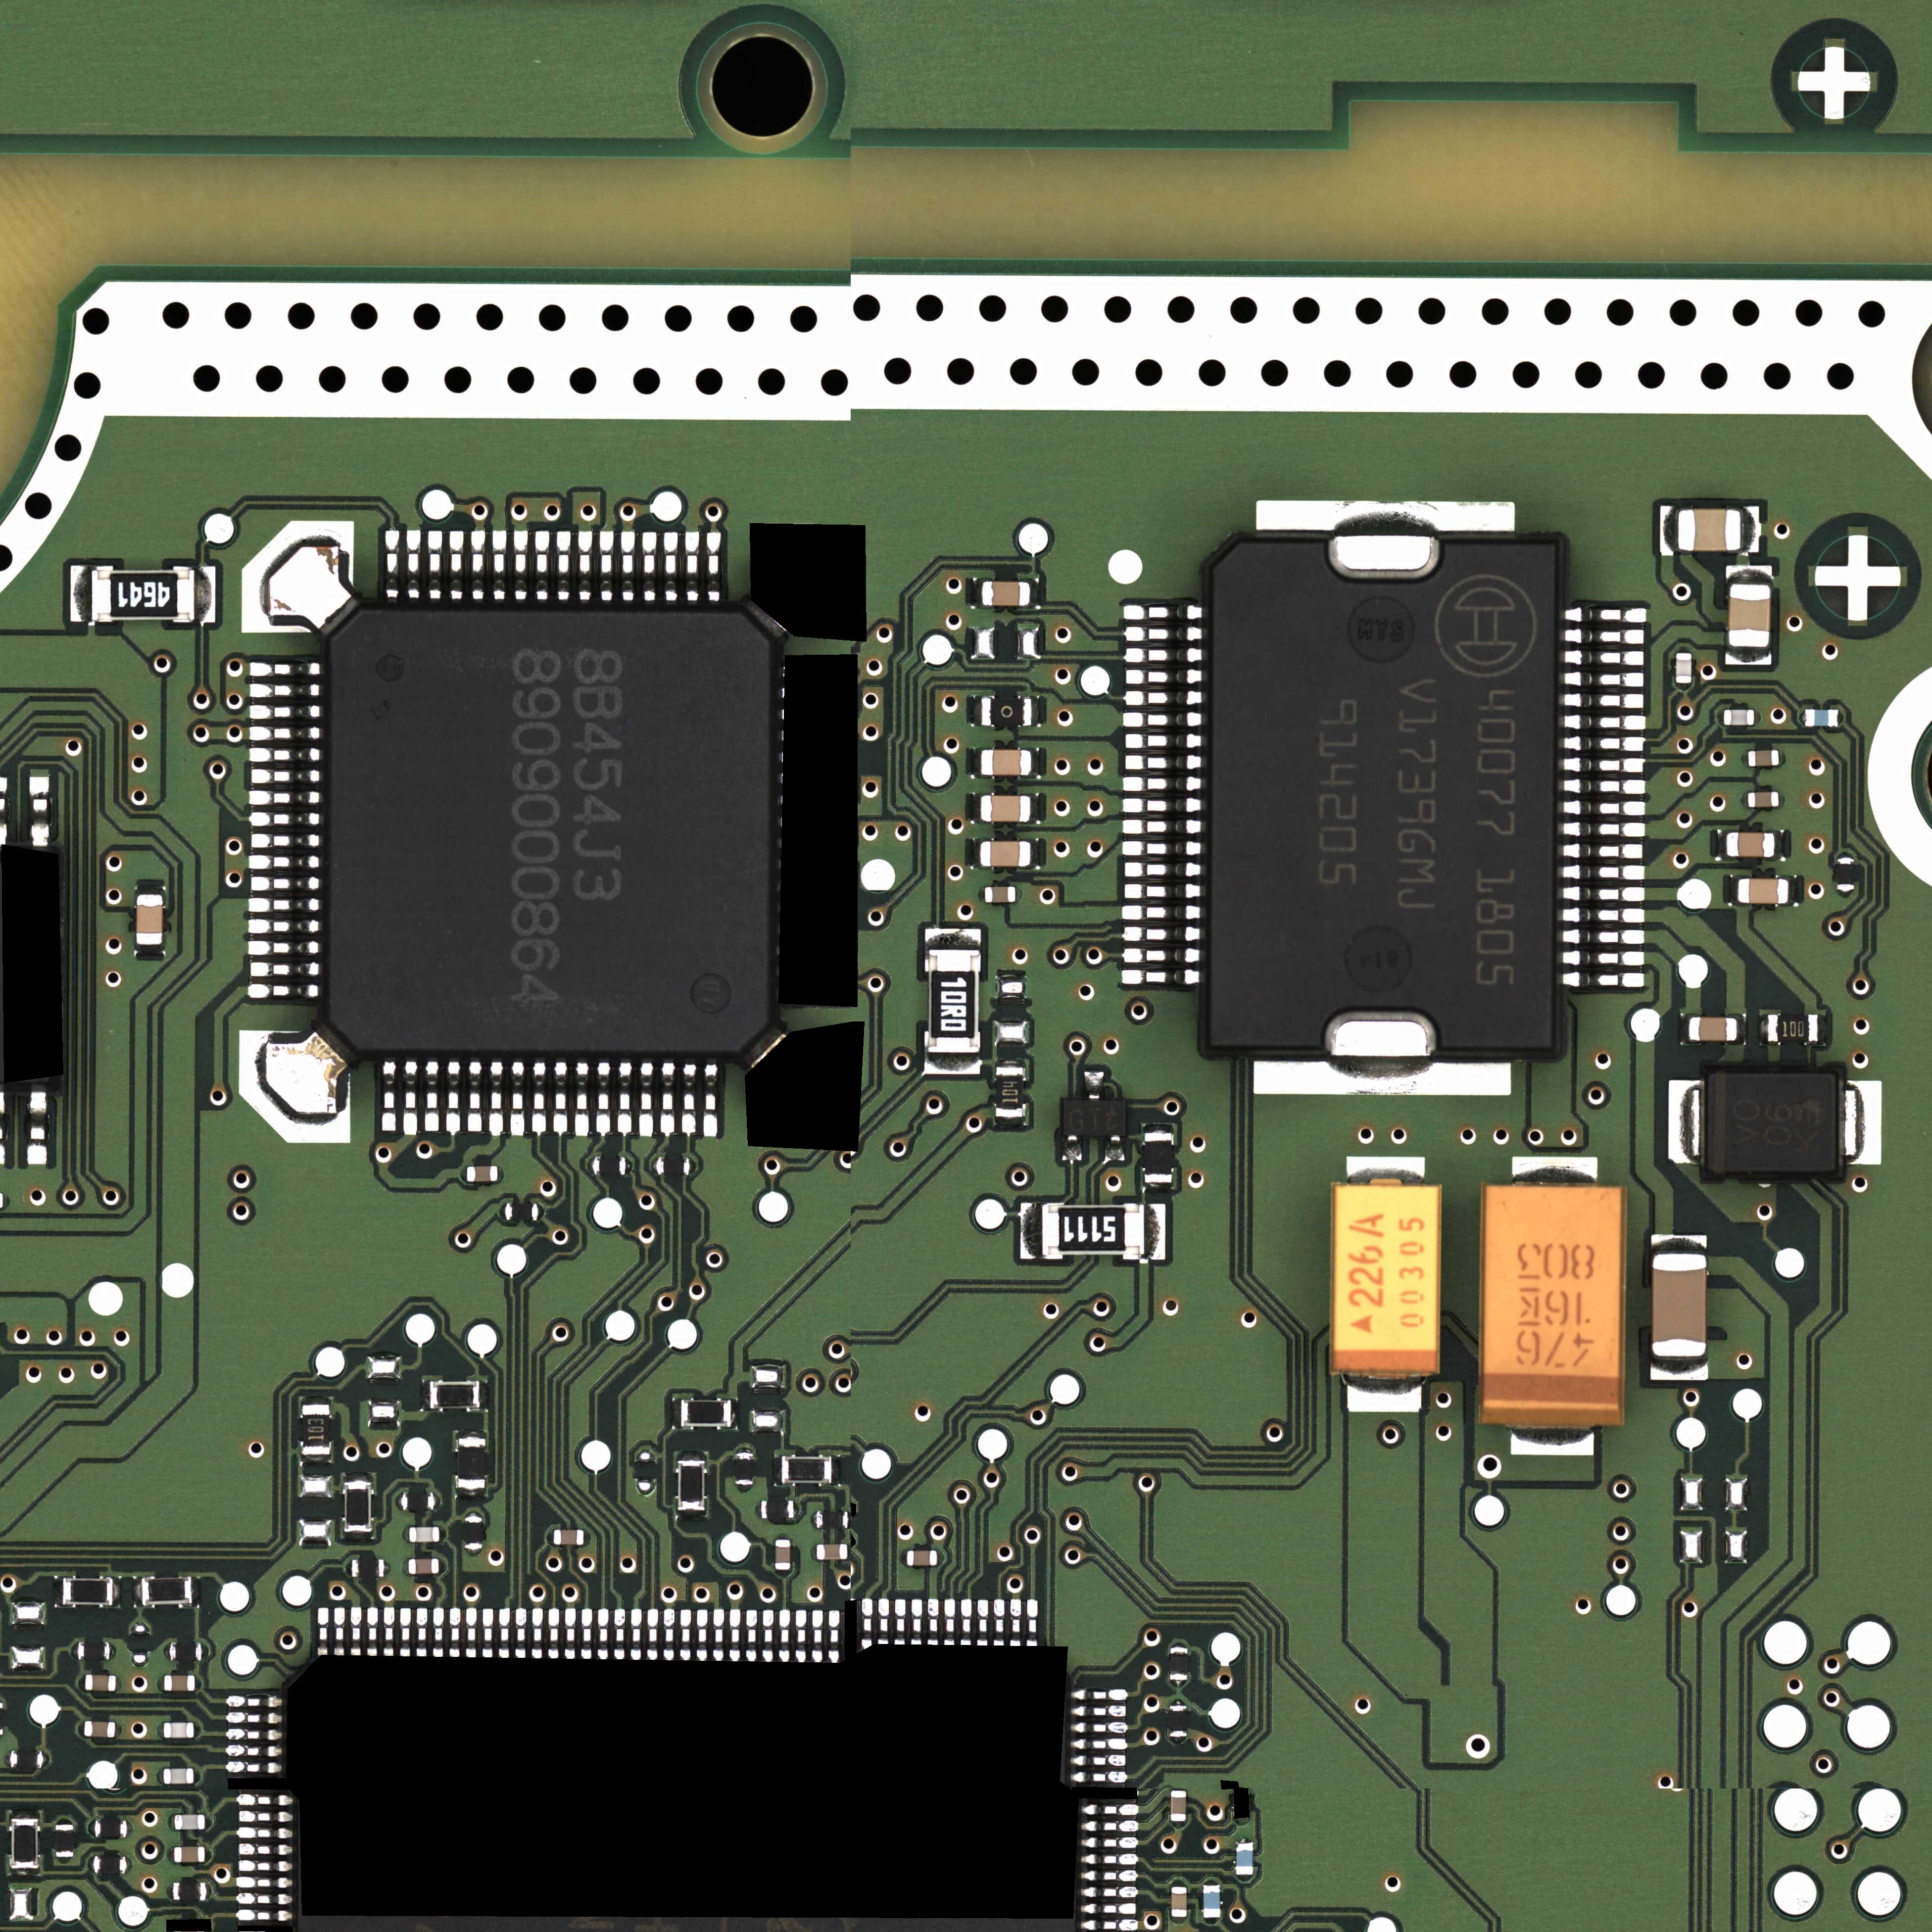Package: (321, 599, 775, 1057), (1213, 543, 1552, 1050), (1482, 1186, 1622, 1425), (1332, 1186, 1440, 1372), (1704, 1071, 1838, 1174), (1652, 1254, 1707, 1356), (92, 569, 195, 622), (927, 951, 980, 1052), (1043, 1204, 1144, 1256), (1677, 509, 1741, 551), (1729, 583, 1771, 647), (1062, 1099, 1126, 1136), (981, 698, 1032, 726), (1144, 1132, 1173, 1182), (457, 1438, 485, 1488), (995, 1067, 1023, 1116), (302, 1404, 330, 1454), (1767, 1014, 1818, 1042), (980, 796, 1031, 822), (137, 894, 162, 945), (1738, 878, 1788, 904), (980, 841, 1030, 867), (681, 1400, 730, 1426), (345, 1482, 371, 1531), (11, 1818, 38, 1868), (63, 1579, 113, 1605), (142, 1578, 192, 1604), (782, 1457, 832, 1483), (981, 750, 1031, 775), (678, 1460, 704, 1510), (431, 1382, 480, 1407), (982, 581, 1030, 606), (1727, 832, 1775, 857), (1689, 1017, 1737, 1041), (1169, 1647, 1188, 1681), (173, 1882, 206, 1901), (352, 1558, 384, 1578), (1836, 858, 1855, 890), (656, 1157, 690, 1175), (55, 1824, 74, 1857), (593, 1157, 626, 1175), (505, 1202, 538, 1220), (761, 1500, 793, 1519), (1805, 709, 1838, 727), (464, 1516, 483, 1549), (170, 1643, 202, 1661), (402, 1492, 434, 1510), (1203, 1885, 1220, 1918), (94, 1855, 126, 1873), (95, 1820, 126, 1837), (1169, 1705, 1187, 1737), (78, 1642, 110, 1660), (1236, 1842, 1254, 1875), (735, 1453, 753, 1485), (10, 1751, 43, 1768), (818, 1511, 848, 1528), (84, 1721, 115, 1738), (164, 1675, 195, 1691), (85, 1675, 116, 1691), (467, 1166, 497, 1182), (174, 1846, 204, 1863), (1724, 709, 1754, 725), (553, 1529, 584, 1545), (1748, 750, 1779, 766), (985, 887, 1015, 903), (1676, 653, 1692, 683), (163, 1768, 193, 1784), (408, 1558, 438, 1574), (175, 1814, 205, 1830), (1171, 1887, 1187, 1917), (1748, 792, 1779, 807), (164, 1722, 193, 1738), (409, 1527, 439, 1543), (907, 1550, 937, 1566), (1171, 1790, 1186, 1821), (775, 1540, 790, 1570), (818, 1545, 847, 1559)
Solder: (237, 1029, 352, 1145), (240, 518, 355, 634), (1254, 1051, 1512, 1096), (1256, 501, 1516, 543), (1838, 1080, 1881, 1164), (1668, 1080, 1704, 1163), (1348, 1377, 1421, 1412), (1511, 1428, 1594, 1455), (1511, 1157, 1597, 1183), (1347, 1157, 1424, 1182), (27, 1087, 47, 1164), (29, 776, 50, 846), (1560, 971, 1646, 989), (1562, 864, 1646, 881), (1561, 735, 1645, 752), (1562, 886, 1646, 903), (1562, 800, 1646, 817), (1562, 671, 1645, 687), (1563, 757, 1646, 773), (1562, 778, 1645, 795), (1562, 714, 1645, 730), (1560, 907, 1646, 923), (1561, 929, 1646, 945), (1122, 819, 1204, 835), (1562, 821, 1646, 838), (1561, 843, 1645, 859), (1564, 606, 1646, 623), (1123, 690, 1205, 707), (1563, 692, 1646, 709), (1562, 950, 1645, 966), (1122, 604, 1203, 621), (1122, 840, 1203, 857), (1122, 775, 1203, 792), (1123, 712, 1203, 728), (1124, 754, 1204, 771), (1123, 626, 1205, 642), (1563, 649, 1644, 666), (1122, 969, 1201, 986), (1123, 669, 1204, 685), (1122, 905, 1202, 921), (1122, 862, 1203, 878), (1650, 1357, 1708, 1380), (1123, 733, 1203, 749), (1123, 883, 1203, 900), (1124, 647, 1204, 664), (1121, 798, 1203, 814), (1564, 628, 1646, 644), (1122, 926, 1202, 943), (1122, 948, 1201, 964), (1020, 1202, 1041, 1260), (247, 918, 321, 935), (247, 940, 320, 956), (248, 704, 321, 720), (1145, 1203, 1166, 1260), (924, 1053, 981, 1074), (249, 875, 321, 892), (249, 854, 321, 870), (250, 768, 322, 784), (70, 565, 90, 623), (248, 897, 321, 913), (249, 725, 322, 741), (248, 683, 321, 699), (249, 661, 322, 677), (249, 747, 321, 763), (249, 962, 321, 977), (250, 833, 322, 849), (249, 812, 321, 827), (249, 790, 321, 806), (596, 1062, 611, 1137), (247, 983, 320, 999), (641, 531, 657, 602), (510, 1062, 525, 1136), (599, 530, 614, 602), (620, 531, 635, 602), (513, 529, 528, 602), (663, 531, 678, 602), (196, 566, 215, 624), (489, 1061, 503, 1136), (925, 929, 981, 948), (618, 1062, 632, 1137), (534, 530, 549, 602), (639, 1063, 653, 1137), (575, 1062, 589, 1136), (661, 1063, 675, 1137), (553, 1062, 568, 1136), (556, 531, 571, 602), (1651, 1234, 1707, 1253), (532, 1062, 546, 1135), (449, 530, 464, 601), (685, 531, 700, 602), (578, 531, 592, 602), (382, 1061, 396, 1133), (403, 1062, 418, 1135), (492, 529, 506, 602), (703, 1064, 718, 1137), (706, 531, 721, 601), (468, 1062, 482, 1133), (471, 530, 485, 601), (446, 1061, 460, 1134), (682, 1063, 696, 1137), (428, 530, 442, 600), (407, 530, 421, 600), (425, 1061, 439, 1133), (385, 529, 399, 599), (1660, 506, 1677, 556), (1726, 566, 1773, 583), (1725, 647, 1772, 665), (1742, 506, 1759, 553), (1071, 1754, 1126, 1767), (334, 1607, 345, 1663), (366, 1607, 378, 1663), (384, 1608, 395, 1663), (465, 1608, 477, 1663), (483, 1609, 495, 1664), (680, 1609, 692, 1664), (696, 1609, 708, 1664), (712, 1609, 724, 1665), (728, 1609, 740, 1665), (746, 1610, 758, 1665), (763, 1610, 774, 1665), (778, 1610, 790, 1665), (812, 1610, 823, 1666), (828, 1610, 840, 1665), (1027, 1599, 1039, 1655), (237, 1794, 293, 1805), (226, 1762, 283, 1773), (226, 1745, 283, 1756), (227, 1712, 283, 1723), (227, 1729, 283, 1740), (227, 1695, 283, 1707), (1082, 1837, 1138, 1848), (1082, 1854, 1138, 1865), (1082, 1870, 1138, 1881), (1082, 1886, 1138, 1898), (1082, 1919, 1138, 1931), (237, 1910, 292, 1921), (237, 1893, 292, 1904), (238, 1860, 293, 1872), (237, 1877, 292, 1888), (317, 1608, 329, 1663), (349, 1607, 361, 1663), (400, 1608, 412, 1663), (416, 1608, 428, 1663), (433, 1608, 444, 1663), (449, 1608, 460, 1664), (500, 1608, 511, 1664), (516, 1608, 527, 1664), (532, 1608, 543, 1664), (548, 1608, 560, 1663), (564, 1608, 576, 1663), (580, 1608, 592, 1664), (597, 1608, 608, 1664), (631, 1609, 642, 1664), (647, 1609, 658, 1664), (663, 1609, 675, 1664), (795, 1609, 807, 1665), (895, 1600, 907, 1655), (861, 1599, 872, 1655), (912, 1600, 923, 1655), (927, 1600, 939, 1655), (944, 1599, 955, 1655), (961, 1599, 972, 1655), (977, 1599, 989, 1655), (1011, 1599, 1022, 1655), (994, 1599, 1005, 1655), (239, 1811, 293, 1822), (238, 1827, 292, 1838), (615, 1609, 626, 1664), (877, 1599, 889, 1654), (1082, 1903, 1136, 1914), (1071, 1689, 1127, 1700), (1071, 1722, 1127, 1733), (1082, 1804, 1138, 1815), (1082, 1821, 1138, 1832), (239, 1844, 294, 1855), (1071, 1706, 1126, 1717), (1071, 1739, 1126, 1750), (1071, 1772, 1127, 1783), (1084, 1070, 1103, 1098), (1105, 1136, 1125, 1160), (1062, 1136, 1082, 1159), (969, 837, 980, 868), (1789, 875, 1799, 906), (971, 578, 981, 608), (1031, 838, 1041, 869), (971, 695, 981, 726), (1775, 830, 1785, 860), (971, 747, 981, 777), (301, 1455, 332, 1464), (1031, 793, 1040, 823), (1031, 696, 1041, 726), (1680, 1013, 1689, 1045), (135, 884, 165, 893), (971, 792, 980, 822), (1759, 1013, 1768, 1045), (1717, 829, 1726, 859), (995, 1058, 1026, 1067), (1737, 1014, 1745, 1045), (421, 1380, 430, 1410), (480, 1380, 488, 1411), (672, 1399, 680, 1429), (1031, 747, 1040, 778), (678, 1449, 705, 1459), (1030, 578, 1039, 608), (300, 1396, 332, 1404), (54, 1575, 62, 1607), (1818, 1013, 1827, 1045), (343, 1472, 373, 1481), (993, 1117, 1026, 1125), (455, 1489, 486, 1497), (457, 1429, 486, 1438), (9, 1810, 40, 1818), (832, 1455, 840, 1486), (9, 1869, 40, 1877), (134, 1576, 142, 1606), (730, 1398, 738, 1428), (676, 1510, 706, 1518), (134, 945, 166, 952), (192, 1577, 199, 1606), (343, 1532, 373, 1540), (1143, 1124, 1173, 1132), (1730, 875, 1738, 905), (774, 1454, 781, 1485), (1144, 1183, 1172, 1191), (113, 1577, 120, 1606), (735, 1485, 753, 1494), (977, 885, 985, 904), (439, 1558, 447, 1576), (206, 1882, 213, 1901), (1739, 791, 1748, 808), (204, 1846, 212, 1864), (384, 1558, 391, 1578), (88, 1819, 95, 1837), (1169, 1917, 1188, 1925), (1716, 709, 1724, 725), (205, 1814, 212, 1832), (194, 1722, 202, 1739), (1016, 886, 1024, 903), (439, 1526, 447, 1544), (167, 1814, 174, 1831), (1233, 1819, 1251, 1826), (465, 1549, 484, 1555), (126, 1856, 133, 1875), (1740, 750, 1748, 766), (1236, 1875, 1255, 1882), (1202, 1918, 1221, 1925), (110, 1642, 117, 1660), (163, 1642, 170, 1660), (434, 1493, 441, 1510), (201, 1642, 208, 1660), (626, 1157, 632, 1174), (55, 1857, 74, 1864), (1169, 1680, 1188, 1687), (1835, 891, 1854, 897), (127, 1820, 134, 1837), (774, 1570, 792, 1577), (395, 1493, 402, 1511), (157, 1675, 164, 1692), (167, 1846, 174, 1863), (689, 1158, 696, 1174), (584, 1529, 591, 1546), (899, 1549, 906, 1566), (1798, 709, 1805, 726), (1780, 750, 1787, 767), (1170, 1822, 1187, 1829), (166, 1883, 173, 1900), (937, 1549, 944, 1567), (1675, 684, 1692, 690), (1838, 709, 1844, 727), (810, 1511, 817, 1529), (115, 1722, 122, 1738), (156, 1722, 163, 1739), (1755, 709, 1762, 725), (1779, 791, 1786, 808), (1169, 1737, 1188, 1743), (88, 1856, 94, 1873), (345, 1559, 352, 1577), (538, 1203, 544, 1220), (794, 1501, 800, 1518), (755, 1501, 761, 1519), (195, 1675, 202, 1692), (156, 1768, 163, 1785), (1170, 1880, 1187, 1886), (810, 1545, 817, 1561), (71, 1642, 78, 1659), (401, 1559, 408, 1575), (1837, 851, 1853, 858), (56, 1818, 73, 1824), (194, 1768, 200, 1784), (402, 1526, 408, 1543), (498, 1165, 504, 1182), (77, 1721, 84, 1737), (465, 1511, 482, 1517), (651, 1158, 657, 1174), (547, 1529, 553, 1546), (1169, 1699, 1186, 1705), (460, 1166, 466, 1182), (736, 1447, 752, 1453), (775, 1533, 791, 1539), (4, 1751, 10, 1768), (43, 1751, 48, 1768), (588, 1157, 593, 1174), (116, 1676, 122, 1691), (79, 1675, 85, 1690), (499, 1204, 504, 1220), (1676, 647, 1691, 652), (1203, 1880, 1220, 1884), (1236, 1837, 1254, 1842), (1170, 1642, 1187, 1646)
